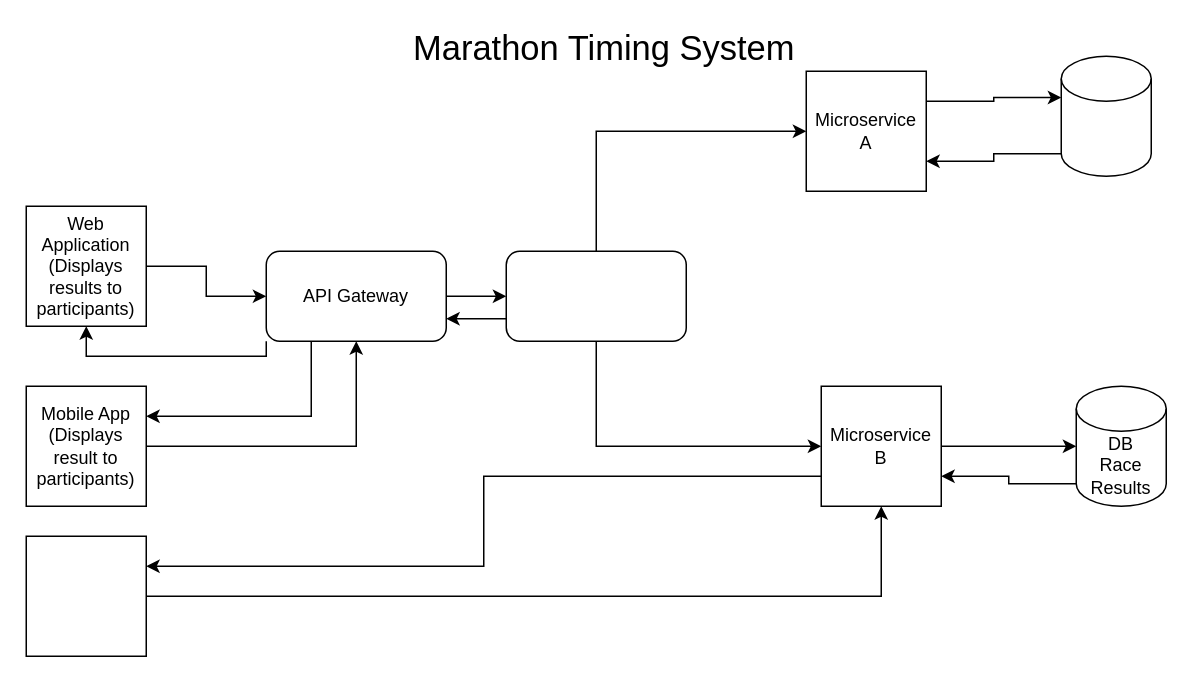
The diagram is 1193 pixels wide and 683 high, and some of its shapes have lost their labels. The centre of each missing label's shape, as x and y in pixels:
"Aggregator (Acts as a psudoservice)" goes at point 595,295.
"DB Customer Info" goes at point 1105,115.
"Desktop Application (Works with timing hardware)" goes at point 85,595.
